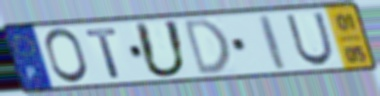D: (181, 16, 234, 78)
I: (255, 13, 289, 72)
O: (42, 26, 91, 86)
T: (83, 26, 124, 80)
U: (132, 19, 191, 80), (283, 11, 337, 68)
